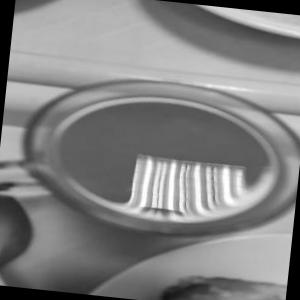coffee: (28, 52, 289, 256)
